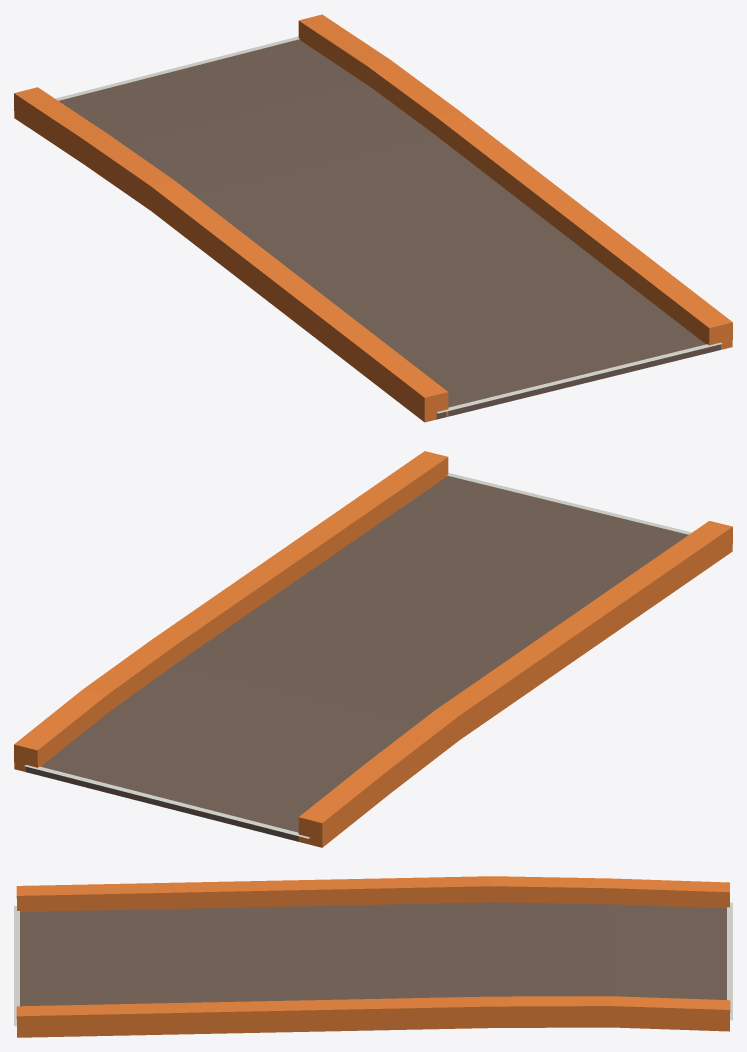
Rendered from SM_MP_Film_B_4_1.fbx.
The picture shows the model from 3 angles, top to bottom: view 1: azimuth 30°, elevation 25°; view 2: azimuth 150°, elevation 25°; view 3: azimuth 270°, elevation 25°; orthographic projection. The views are drawn at different scales.
Parts seen in each view (by area): view 1: SM_MP_Film_B_4_1; view 2: SM_MP_Film_B_4_1; view 3: SM_MP_Film_B_4_1.
Part boxes in pixels (box(x1,y1,x2,y2)): SM_MP_Film_B_4_1: box(14, 14, 732, 422); SM_MP_Film_B_4_1: box(14, 451, 732, 847); SM_MP_Film_B_4_1: box(14, 876, 732, 1037).
Size of what is drawn, in the model's own units: 260 by 605 by 29.82.
